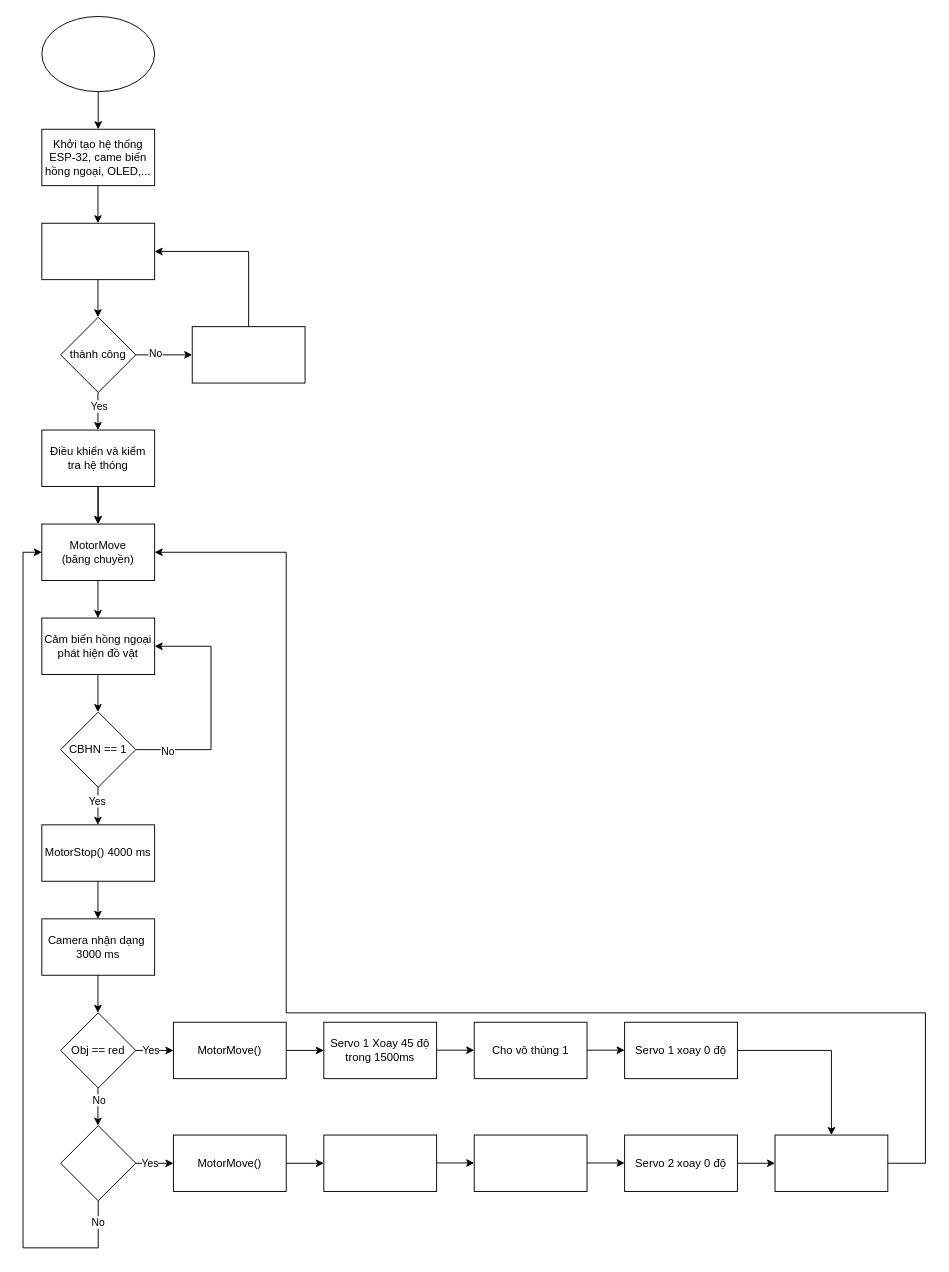
Image size: 949x1272. Some labels were removed from this diagram. The box of each missing label's shape, as (x1, y1, x2, y2) in pixels:
Bắt đầu: (41, 16, 155, 92)
Cho vô thùng 2: (473, 1134, 587, 1191)
ERROR: (191, 326, 305, 383)
ESP-32 Kết nối tới Node-red: (41, 222, 155, 280)
Obj == black: (60, 1125, 136, 1201)
OLED Hộp màu đỏ: _ Hộp màu đen: _: (774, 1134, 888, 1191)
Servo 2 Xoay 45 độ trong 2000ms: (323, 1134, 437, 1191)
